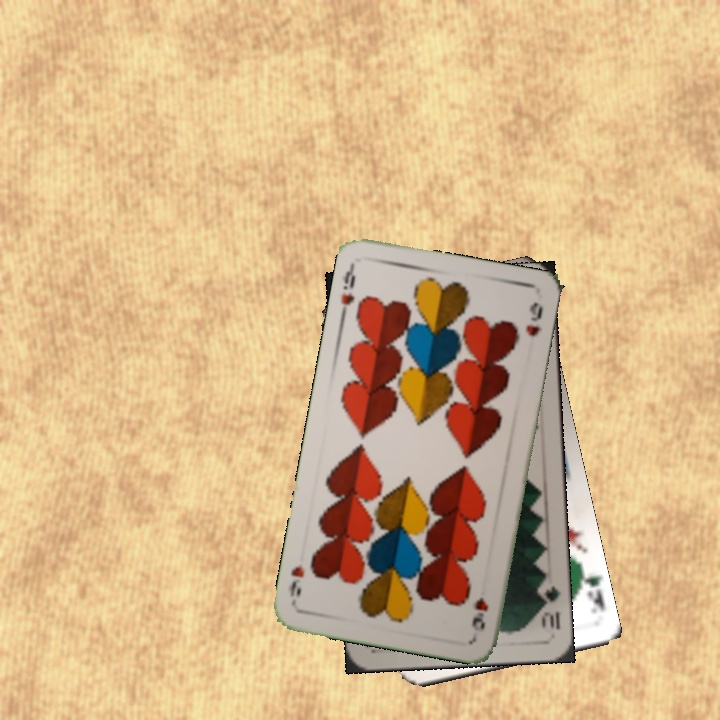G10: (535, 582, 563, 633)
GK: (575, 566, 608, 616)
H9: (336, 260, 358, 319), (467, 593, 491, 634)
